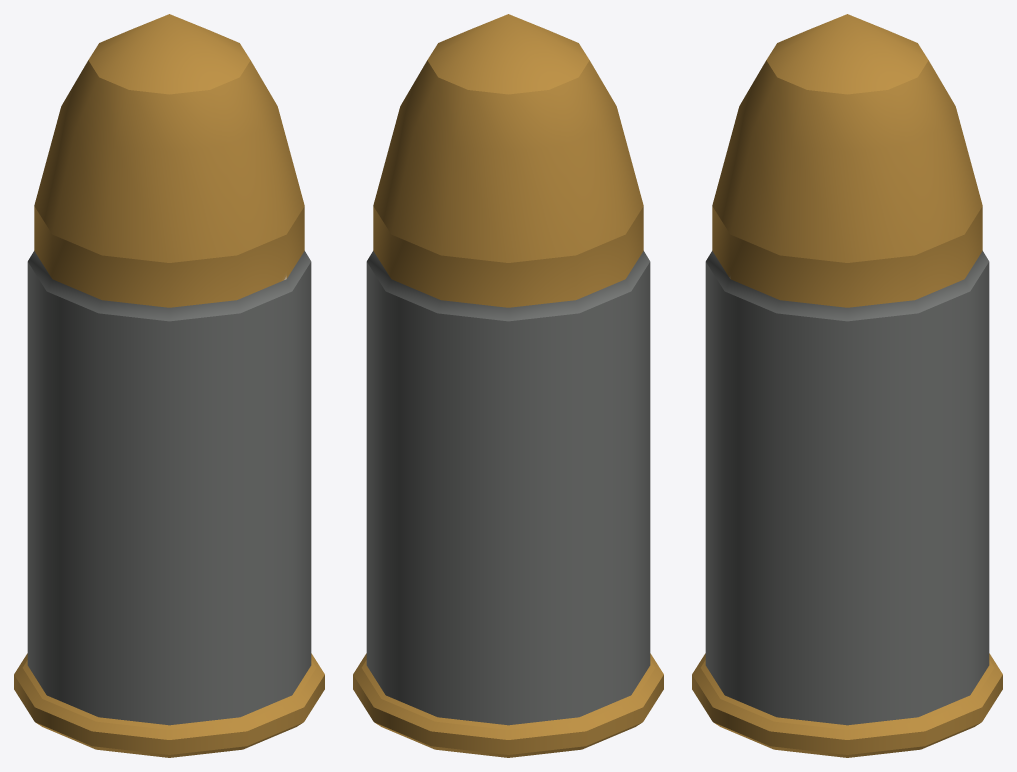
The model's file is bullet_01.fbx.
The picture shows the model from 3 angles, left to right: view 1: azimuth 30°, elevation 25°; view 2: azimuth 150°, elevation 25°; view 3: azimuth 270°, elevation 25°; orthographic projection.
Parts seen in each view (by area): view 1: bullets; view 2: bullets; view 3: bullets.
Boxes of the visible parts, box(x1,y1,x2,y2) form: bullets: box(14, 14, 324, 757); bullets: box(353, 14, 663, 757); bullets: box(692, 14, 1002, 757).
Size of the model in its own units: 0.0152 by 0.037 by 0.0152.
